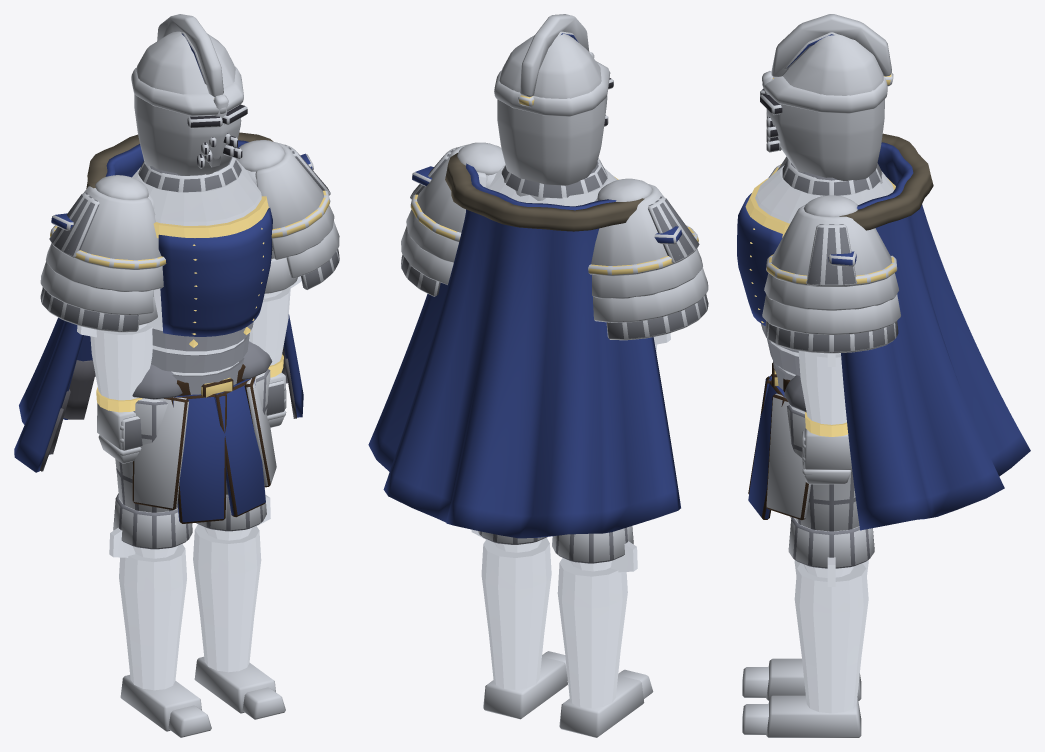
The model's file is knight_warden.glb.
3 views of the same model, side by side, from view 1: azimuth 30°, elevation 25°; view 2: azimuth 150°, elevation 25°; view 3: azimuth 270°, elevation 25° (orthographic). The views are drawn at different scales.
Visible parts, largest first — view 1: M_Torso, M_Head, M_Hips, M_ArmR_Upper, M_Cloak, M_ArmL_Upper, M_LegR_Lower, M_LegL_Lower, M_LegR_Upper, M_ArmR_Lower, M_FootR, M_FootL (+4 smaller); view 2: M_Cloak, M_Head, M_ArmR_Upper, M_LegR_Lower, M_LegL_Lower, M_ArmL_Upper, M_FootR, M_FootL, M_LegR_Upper, M_Torso; view 3: M_Cloak, M_Head, M_ArmL_Upper, M_LegL_Lower, M_Torso, M_LegL_Upper, M_Hips, M_FootL, M_ArmL_Lower, M_HandL, M_FootR.
Part boxes in pixels (x1,y1,x2,y2): M_Torso: (132,158,272,394); M_Head: (131,14,247,192); M_Hips: (132,364,276,523); M_ArmR_Upper: (40,175,166,332); M_Cloak: (14,132,303,472); M_ArmL_Upper: (236,140,339,293); M_LegR_Lower: (109,527,186,690); M_LegL_Lower: (193,495,270,672); M_LegR_Upper: (113,364,192,549); M_ArmR_Lower: (77,323,152,412); M_FootR: (120,675,211,737); M_FootL: (194,656,285,719); M_Cloak: (368,153,680,538); M_Head: (494,14,613,200); M_ArmR_Upper: (588,178,708,340); M_LegR_Lower: (557,541,637,708); M_LegL_Lower: (471,529,551,689); M_ArmL_Upper: (401,142,505,296); M_FootR: (559,669,653,737); M_FootL: (483,651,567,719); M_LegR_Upper: (552,526,633,563); M_Torso: (488,162,618,206); M_Cloak: (839,133,1030,530); M_Head: (760,14,893,195); M_ArmL_Upper: (762,195,900,353); M_LegL_Lower: (794,557,868,713); M_Torso: (737,165,895,390); M_LegL_Upper: (784,375,874,568); M_Hips: (748,362,810,520); M_FootL: (742,695,861,737); M_ArmL_Lower: (798,351,848,436); M_HandL: (802,428,851,484); M_FootR: (742,658,861,700).
Bounding box in the file's own units: 0.8632 × 1.92 × 0.7378.
